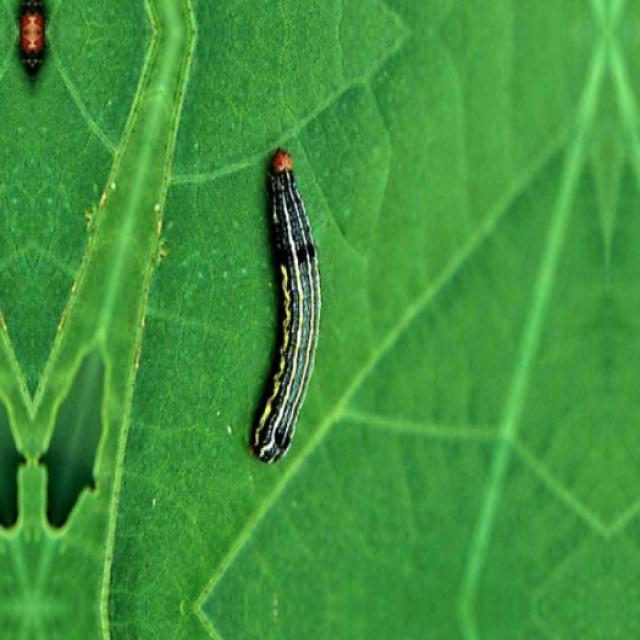Armyworm: (244, 115, 330, 480), (7, 1, 63, 115)
